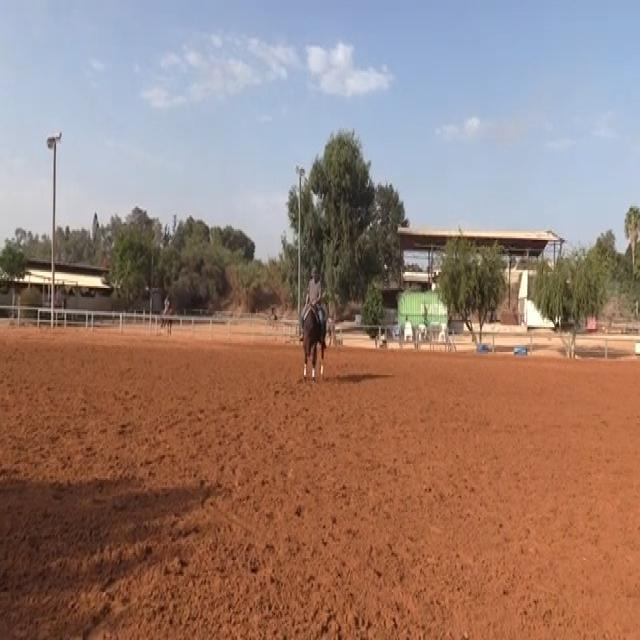horse: (298, 295, 328, 382)
